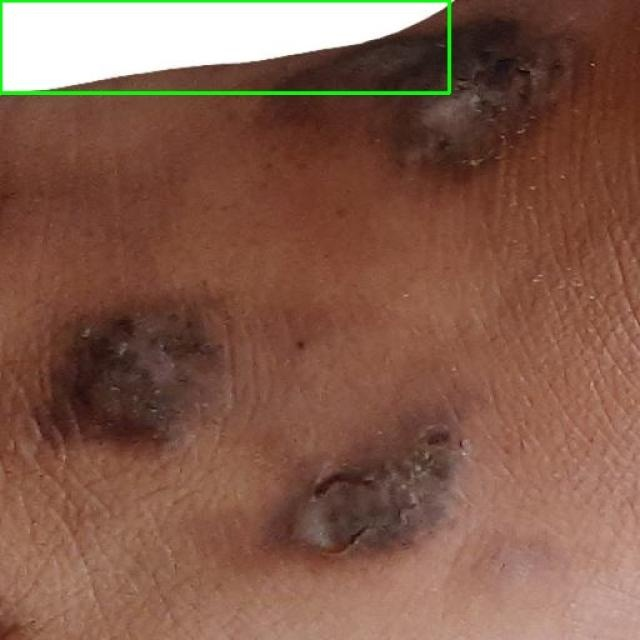Contact Dermatitis: (0, 0, 449, 92)
